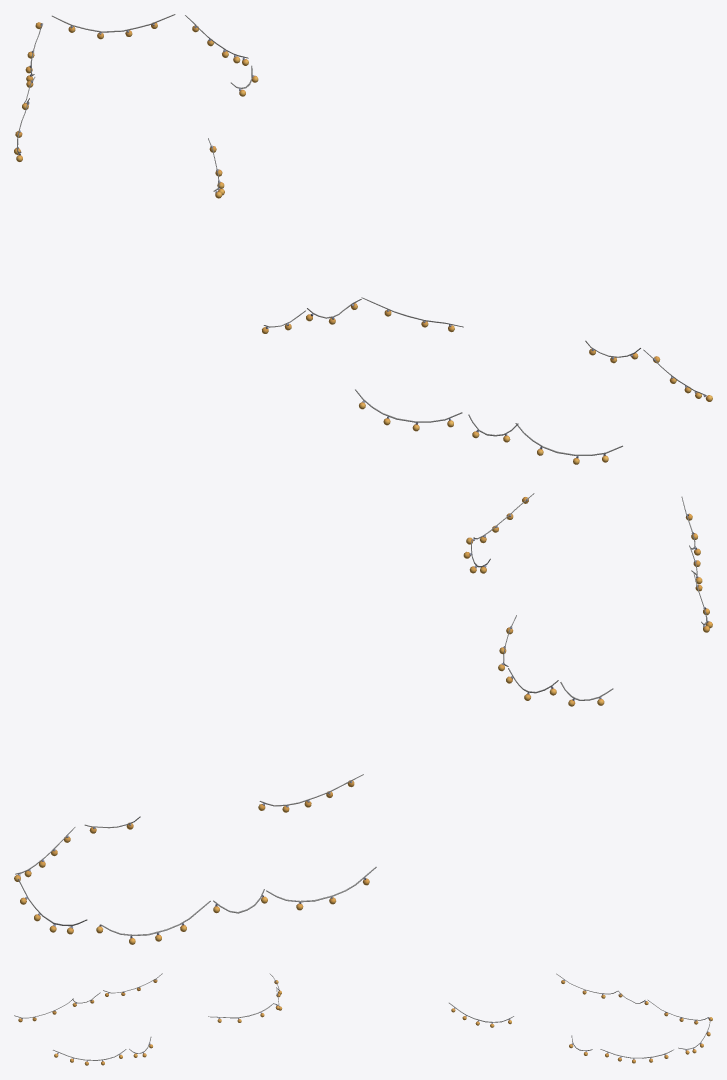
File: pref_sm_beach_WSJ_deng04_b_lv3.fbx
The picture shows the model from 3 angles, top to bottom: view 1: azimuth 30°, elevation 25°; view 2: azimuth 150°, elevation 25°; view 3: azimuth 270°, elevation 25°; orthographic projection. The views are drawn at different scales.
Visible parts, largest first — view 1: pref_sm_beach_WSJ_deng04_b_lv3; view 2: pref_sm_beach_WSJ_deng04_b_lv3; view 3: pref_sm_beach_WSJ_deng04_b_lv3.
Part boxes in pixels (x1,y1,x2,y2): pref_sm_beach_WSJ_deng04_b_lv3: (14, 14, 712, 464); pref_sm_beach_WSJ_deng04_b_lv3: (14, 493, 712, 944); pref_sm_beach_WSJ_deng04_b_lv3: (14, 973, 712, 1065).
Size of the model in its own units: 9.33 by 0.9933 by 34.09.
